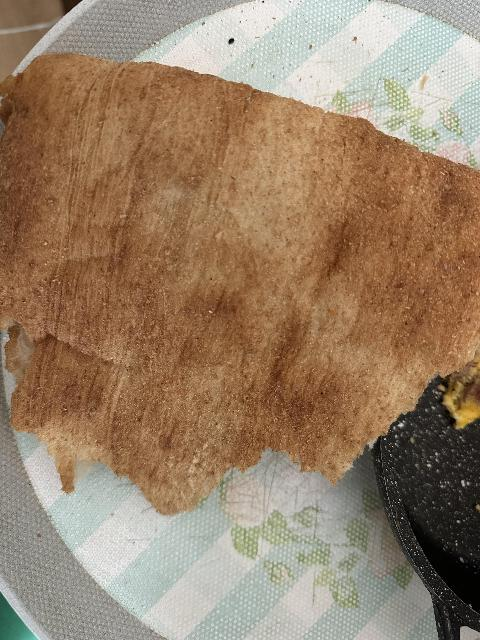Organik: (0, 49, 480, 478)
